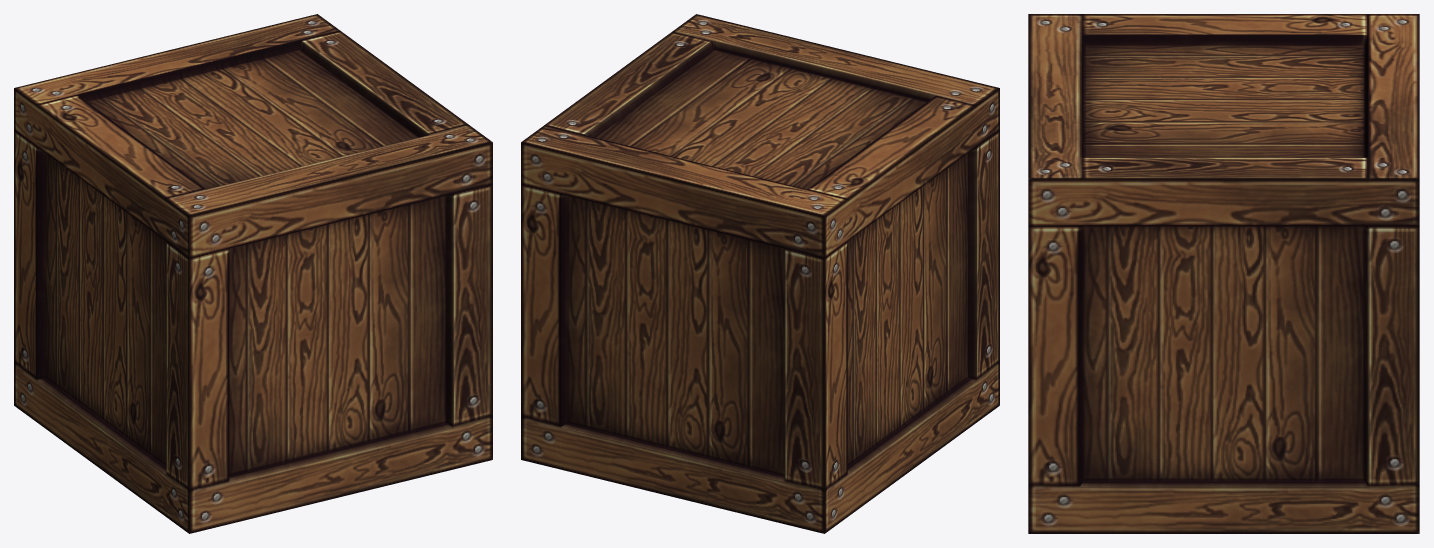
The model's file is crate.fbx.
3 renders of one model, left to right at view 1: azimuth 30°, elevation 25°; view 2: azimuth 150°, elevation 25°; view 3: azimuth 270°, elevation 25°, orthographic. The views are drawn at different scales.
Visible parts, largest first — view 1: crate; view 2: crate; view 3: crate.
Part boxes in pixels (x1,y1,x2,y2): crate: [14, 14, 492, 533]; crate: [521, 14, 999, 533]; crate: [1028, 14, 1419, 533].
Size of the model in its own units: 3.03 by 3.03 by 3.03.
